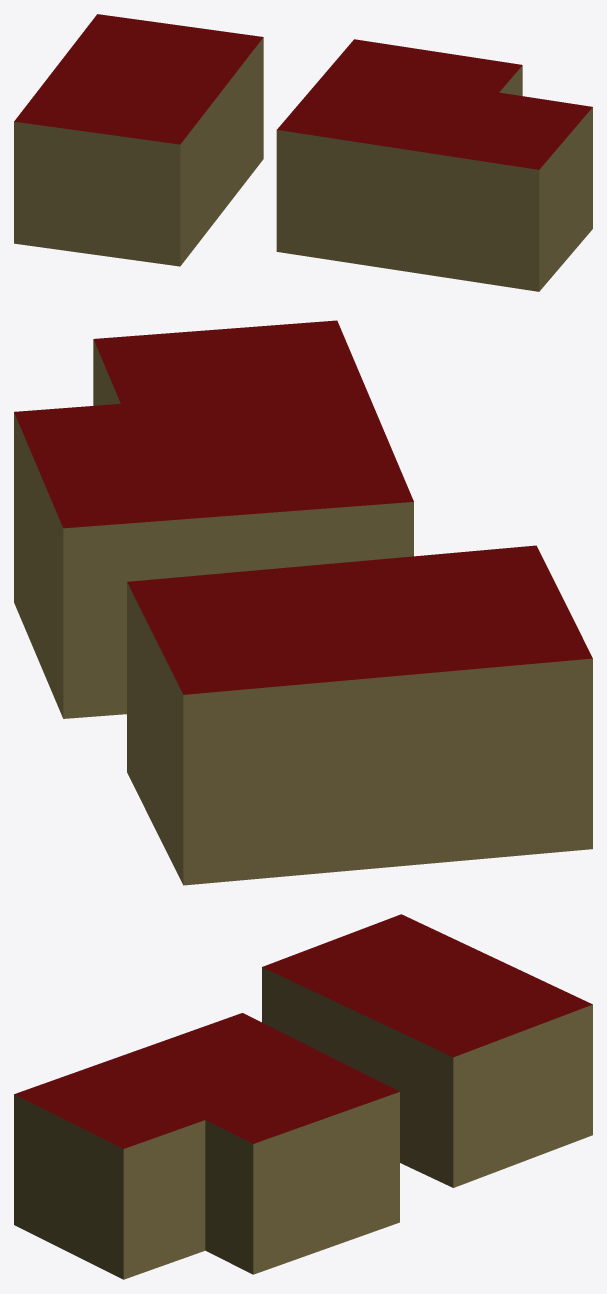
3 renders of one model, top to bottom at view 1: azimuth 30°, elevation 25°; view 2: azimuth 150°, elevation 25°; view 3: azimuth 270°, elevation 25°, orthographic. The views are drawn at different scales.
Parts seen in each view (by area): view 1: Building0, Building1; view 2: Building1, Building0; view 3: Building0, Building1.
Boxes of the visible parts, x1=… form: Building0: x1=276, y1=39, x2=592, y2=291; Building1: x1=14, y1=14, x2=263, y2=266; Building1: x1=127, y1=545, x2=592, y2=885; Building0: x1=14, y1=320, x2=413, y2=718; Building0: x1=14, y1=1013, x2=399, y2=1279; Building1: x1=262, y1=914, x2=592, y2=1187.
Bounding box in the file's own units: 28.91 × 7.5 × 30.11.
